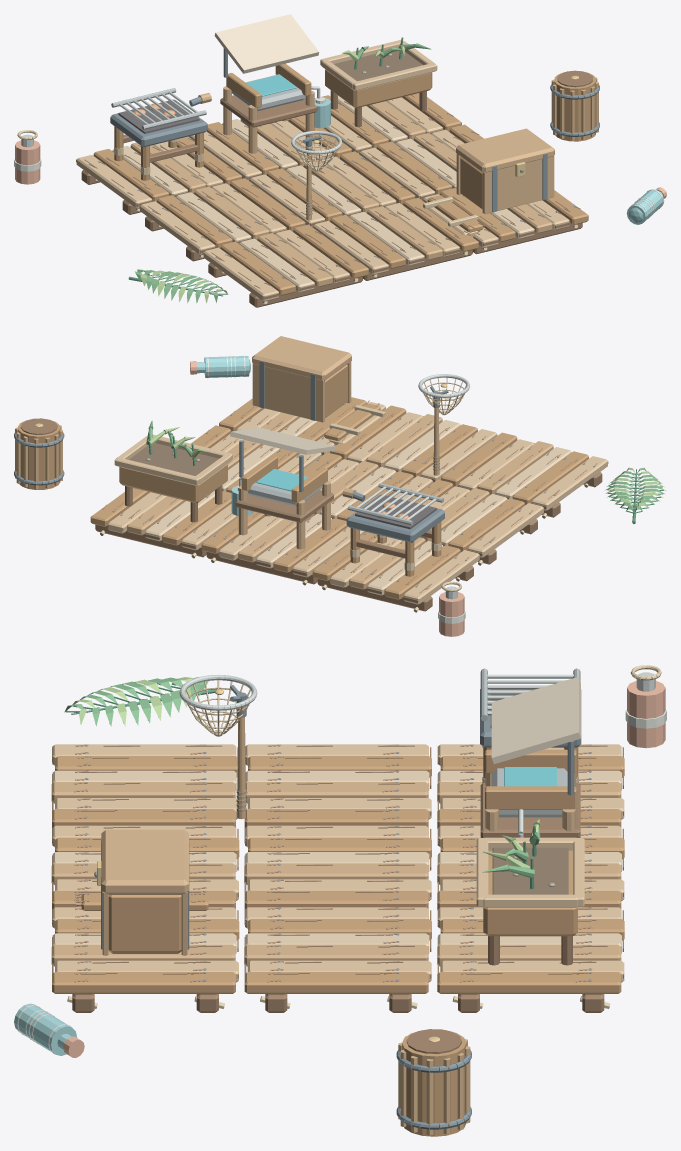
File: starter_raft_scene.glb
3 views of the same model, one above another, from view 1: azimuth 30°, elevation 25°; view 2: azimuth 150°, elevation 25°; view 3: azimuth 270°, elevation 25° (orthographic). The views are drawn at different scales.
Visible parts, largest first — view 1: storage_chest_109_1, solar_purifier_096_6, foundation_2m_022_4, foundation_2m_013_4, foundation_2m_020_2, foundation_2m_011_2, foundation_2m_040_4, foundation_2m_049_4, foundation_2m_047_2, foundation_2m_002_2, foundation_2m_038_2, planter_box_101_1 (+60 smaller); view 2: storage_chest_109_1, foundation_2m_022_4, foundation_2m_020_2, foundation_2m_002_2, foundation_2m_049_4, foundation_2m_047_2, foundation_2m_004_4, foundation_2m_031_4, planter_box_101_1, foundation_2m_029_2, foundation_2m_058_4, planter_box_103_3 (+54 smaller); view 3: foundation_2m_067_4, storage_chest_109_1, foundation_2m_040_4, foundation_2m_013_4, foundation_2m_022_4, solar_purifier_096_6, foundation_2m_076_4, foundation_2m_058_4, foundation_2m_038_2, storage_chest_108_0, foundation_2m_065_2, foundation_2m_011_2 (+60 smaller).
Part boxes in pixels (<box>): storage_chest_109_1: <box>456,128,554,213</box>; solar_purifier_096_6: <box>214,14,319,73</box>; foundation_2m_022_4: <box>220,224,368,295</box>; foundation_2m_013_4: <box>157,178,305,248</box>; foundation_2m_020_2: <box>203,229,349,301</box>; foundation_2m_011_2: <box>140,183,286,255</box>; foundation_2m_040_4: <box>267,151,415,221</box>; foundation_2m_049_4: <box>330,198,478,268</box>; foundation_2m_047_2: <box>313,203,459,274</box>; foundation_2m_002_2: <box>76,141,223,208</box>; foundation_2m_038_2: <box>250,156,396,226</box>; planter_box_101_1: <box>325,69,432,108</box>; storage_chest_109_1: <box>252,336,351,422</box>; foundation_2m_022_4: <box>441,432,588,505</box>; foundation_2m_020_2: <box>458,439,607,510</box>; foundation_2m_002_2: <box>330,537,479,604</box>; foundation_2m_049_4: <box>330,405,477,477</box>; foundation_2m_047_2: <box>347,412,496,482</box>; foundation_2m_004_4: <box>312,532,460,599</box>; foundation_2m_031_4: <box>201,511,347,572</box>; planter_box_101_1: <box>119,464,227,503</box>; foundation_2m_029_2: <box>218,516,365,577</box>; foundation_2m_058_4: <box>90,488,231,545</box>; planter_box_103_3: <box>114,434,232,485</box>; foundation_2m_067_4: <box>244,919,431,993</box>; storage_chest_109_1: <box>101,829,188,955</box>; foundation_2m_040_4: <box>244,837,431,909</box>; foundation_2m_013_4: <box>244,756,431,828</box>; foundation_2m_022_4: <box>52,756,237,828</box>; solar_purifier_096_6: <box>491,676,580,763</box>; foundation_2m_076_4: <box>52,919,239,993</box>; foundation_2m_058_4: <box>437,919,624,993</box>; foundation_2m_038_2: <box>245,825,431,900</box>; storage_chest_108_0: <box>108,895,181,953</box>; foundation_2m_065_2: <box>245,907,431,982</box>; foundation_2m_011_2: <box>245,744,431,819</box>.
Size of the model in its own units: 9.83 by 2.46 by 6.78.
